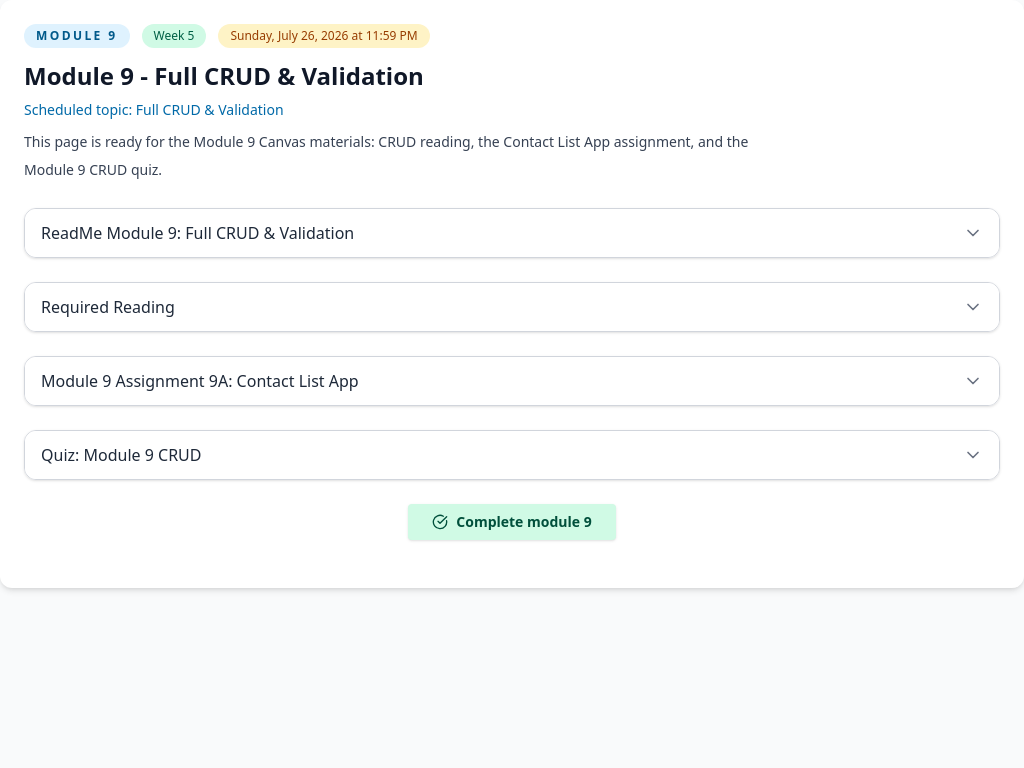
<AssignmentMod9 /> › renders the Module 9 CRUD quiz
Step 1. Click the button "Quiz: Module 9 CRUD" → (121, 455), box [25,431,999,479]
(page scrolled)
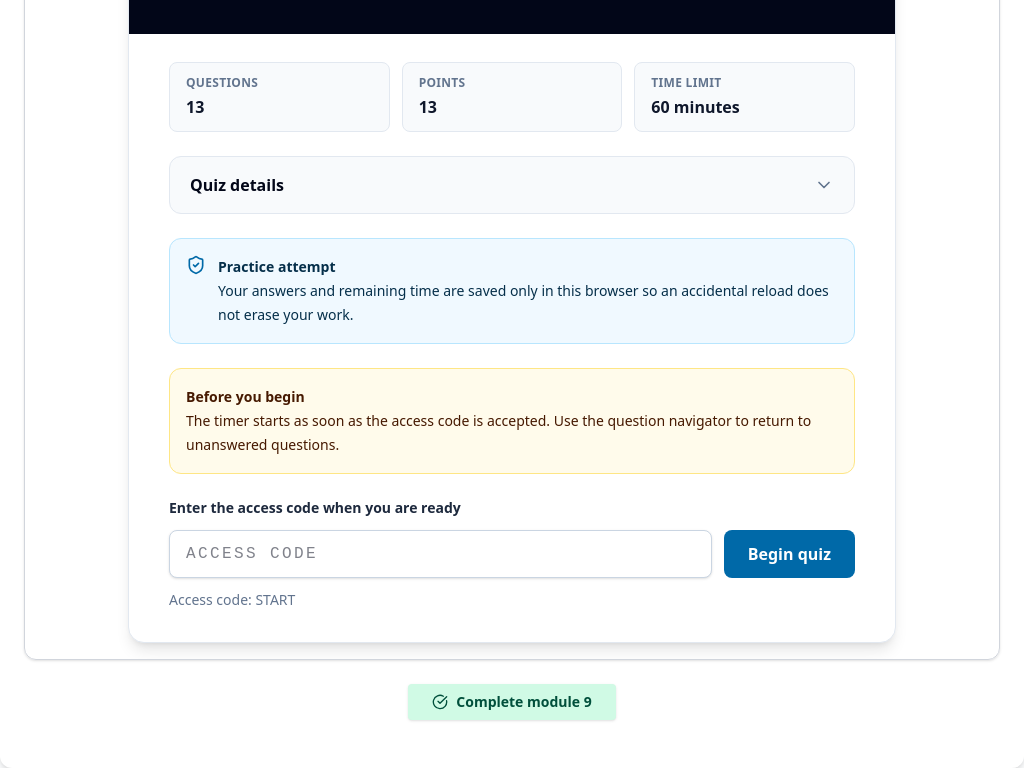
Check: the text "Access code: START" is shown, box [169,590,295,609]
Check: the text "13" is shown 4 times
